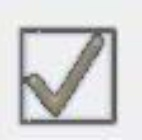CheckBox: (1, 1, 141, 139)
